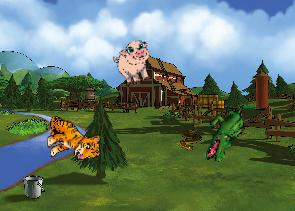crocodile: (204, 101, 246, 164)
pig: (110, 37, 159, 89)
tiger: (45, 115, 100, 161)
